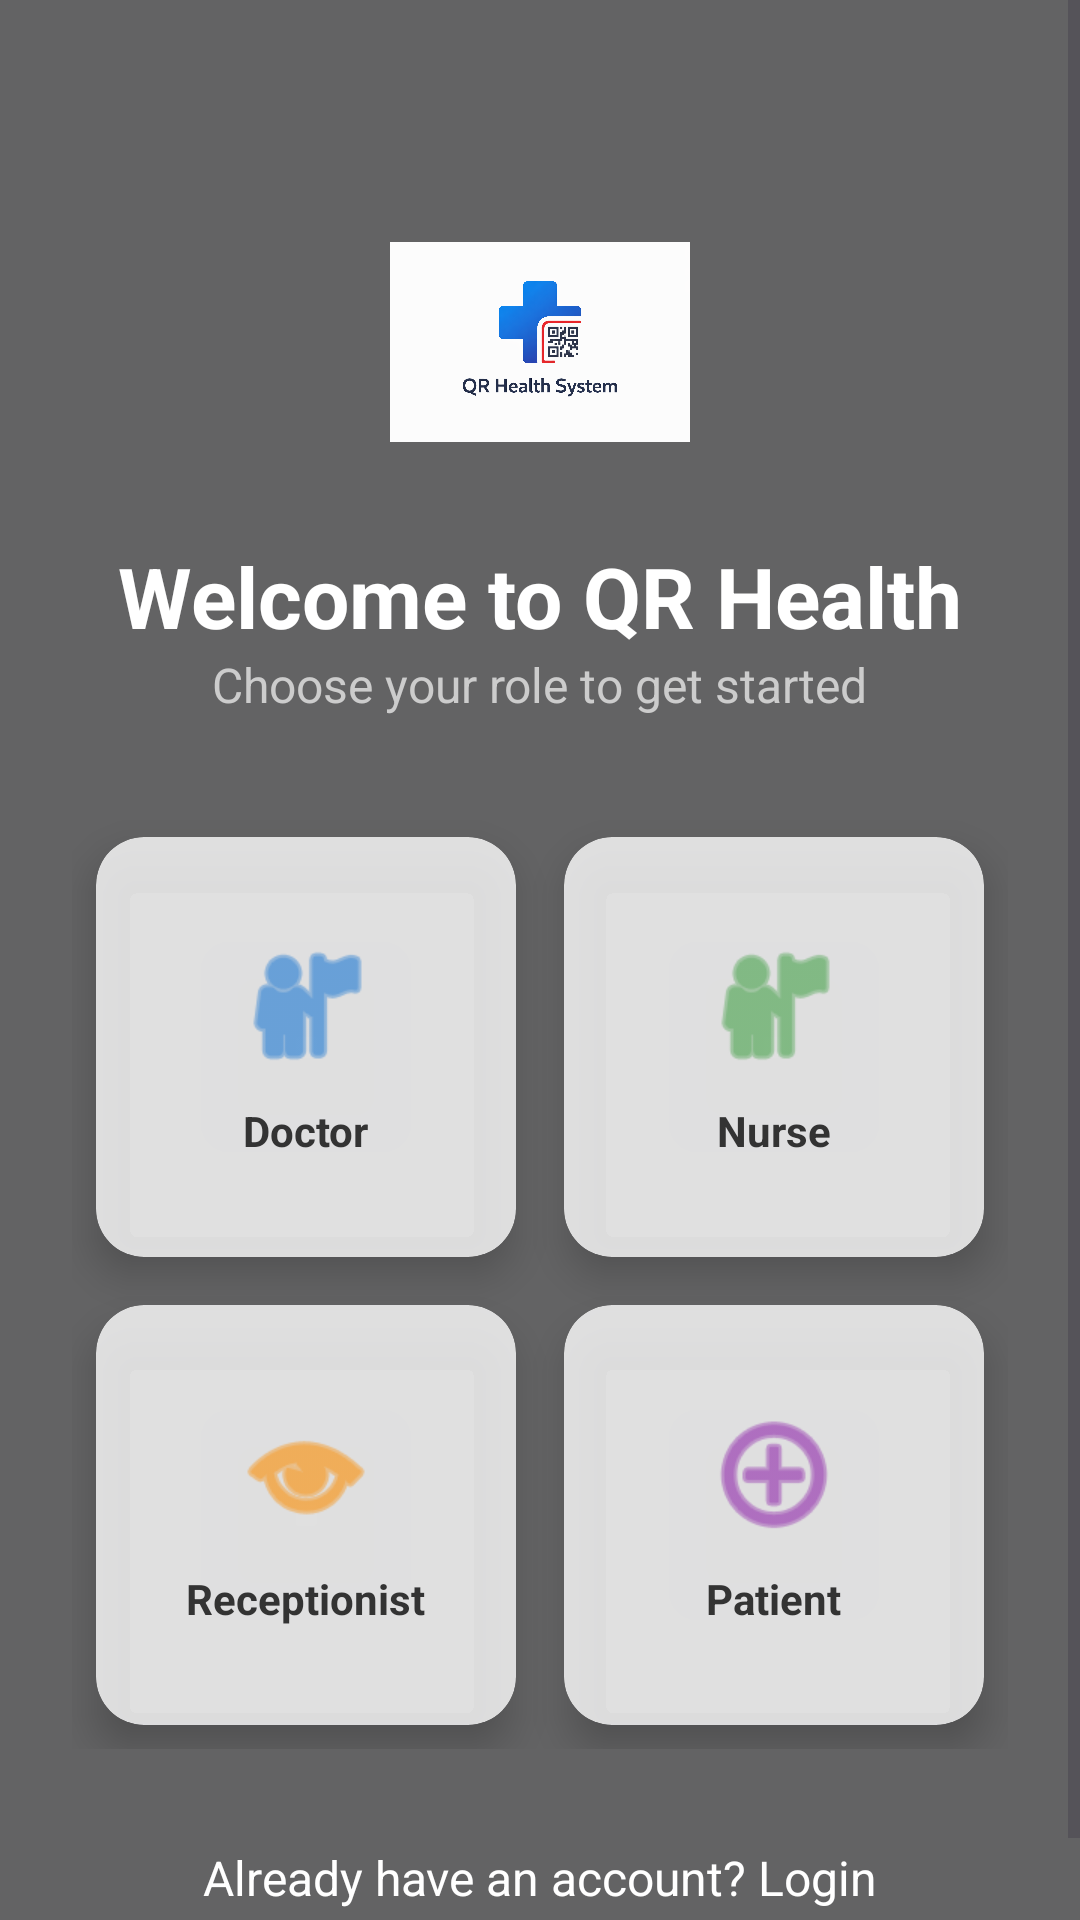

Screen size 1080w x 1920h. Icon name, then its center in pixels as [x,y]:
add: [774,1474]
myplaces: [307,1006], [775,1006]
view: [306,1478]
